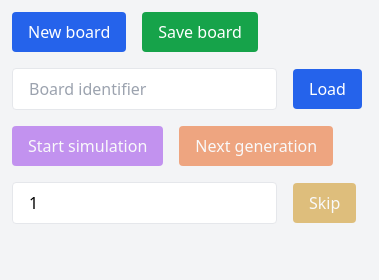
Test: Controls › handles errors during board operations
Type "test-id" into the field with test id "board-id-input". click: (144, 89)
box: left=12, top=68, right=277, bottom=110
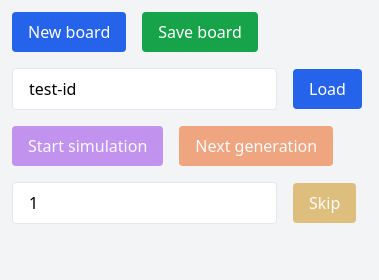
Click the button with test id "load-board-button". click: (327, 89)
box: left=293, top=69, right=362, bottom=109
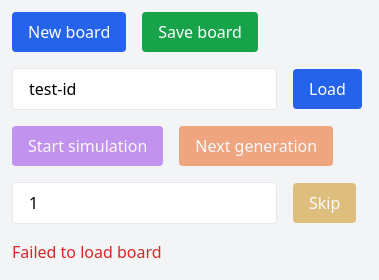
Now the text with test id "error-message" reads "Failed to load board", box left=12, top=241, right=162, bottom=263
